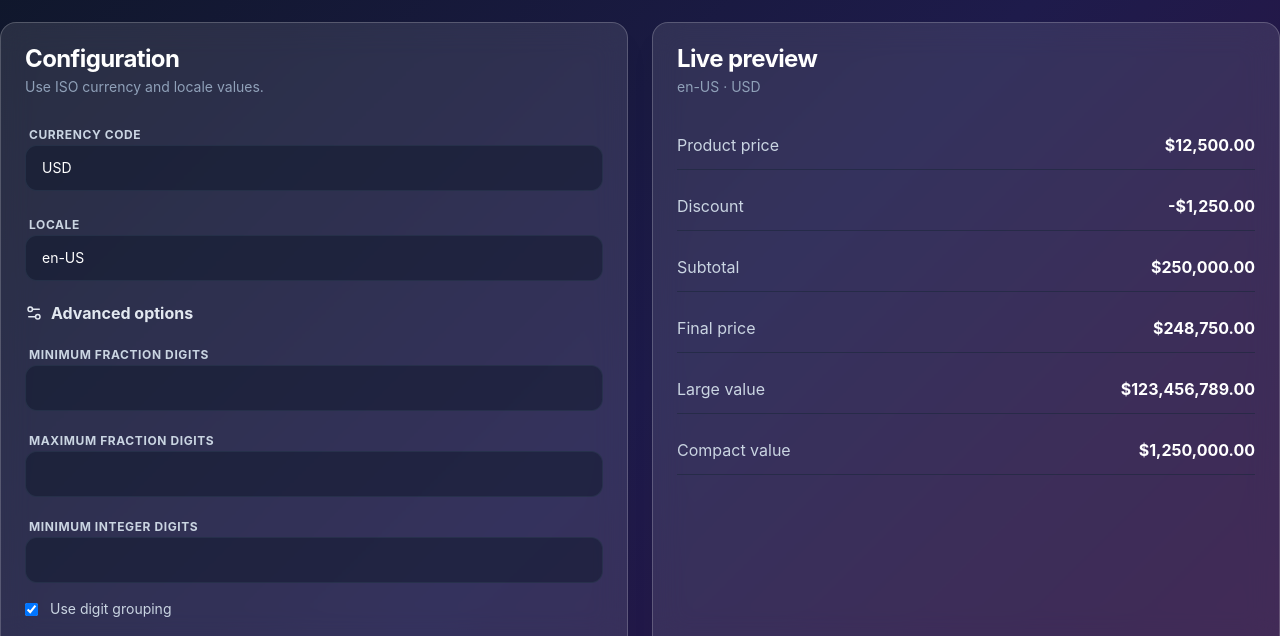
Test: CurrencySettingsPage › shows save success and updates the saved baseline
Replace the text in the field showing "USD" below "Currency code" with "EUR" at [314, 168], box [25, 145, 603, 191]
(page scrolled)
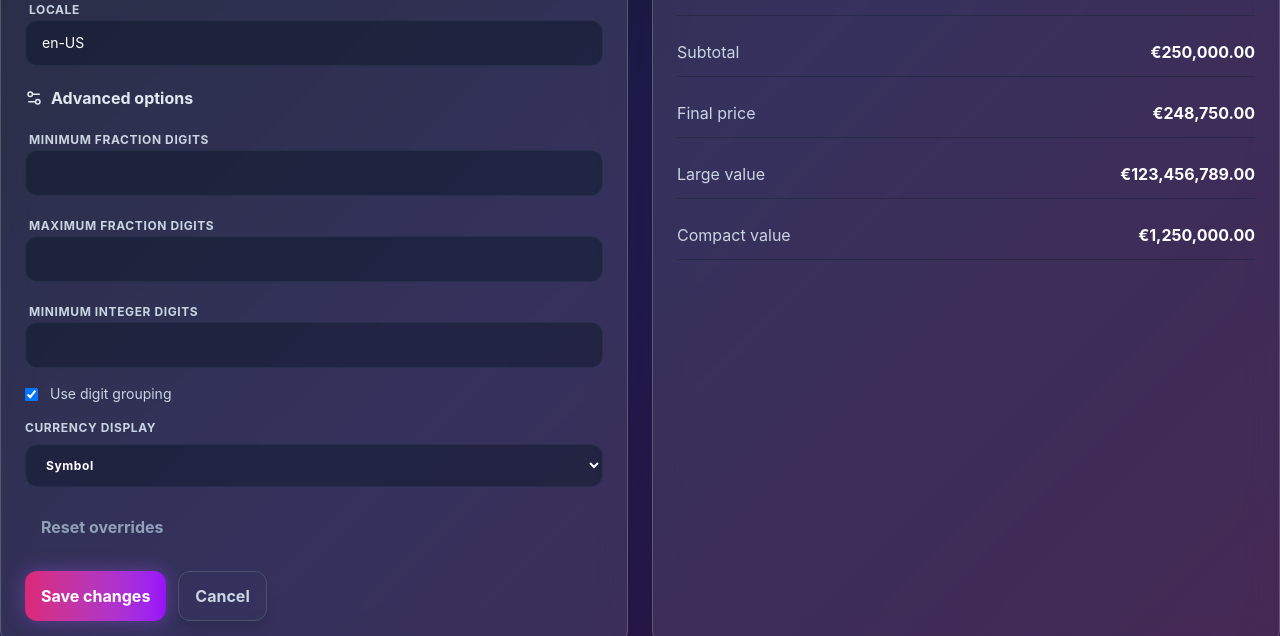
Click the button "Save changes".
click(96, 596)  # box [25, 571, 166, 621]
(page scrolled)
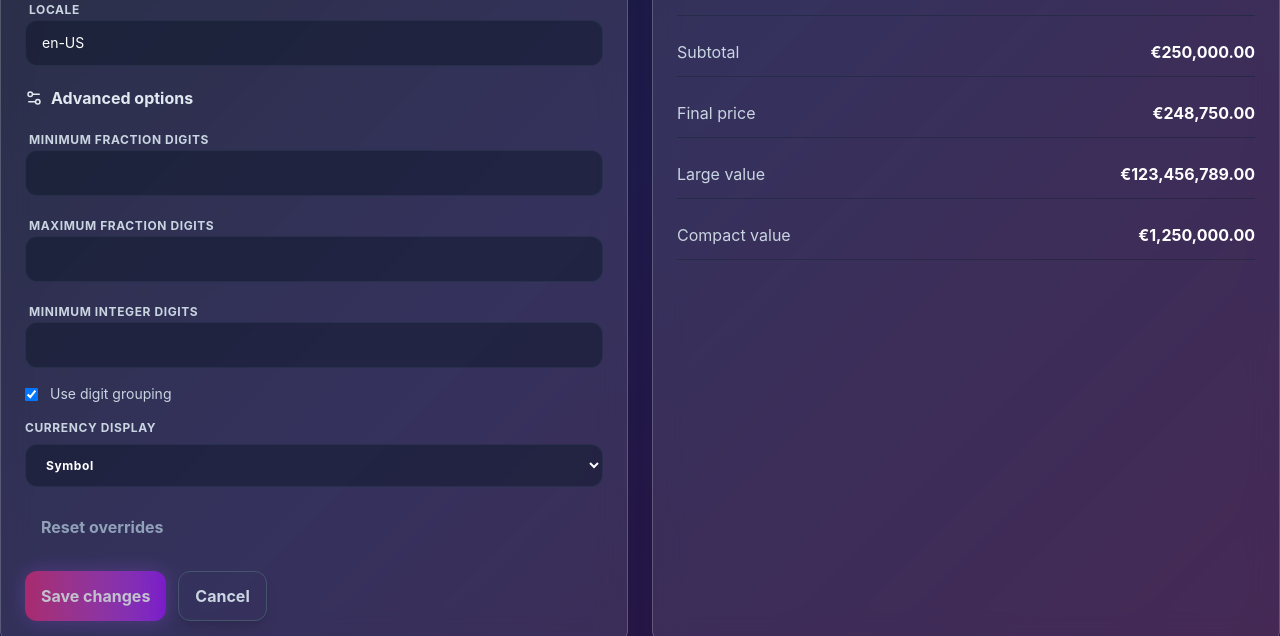
Now the button "Save changes" is disabled, box [25, 571, 166, 621]
